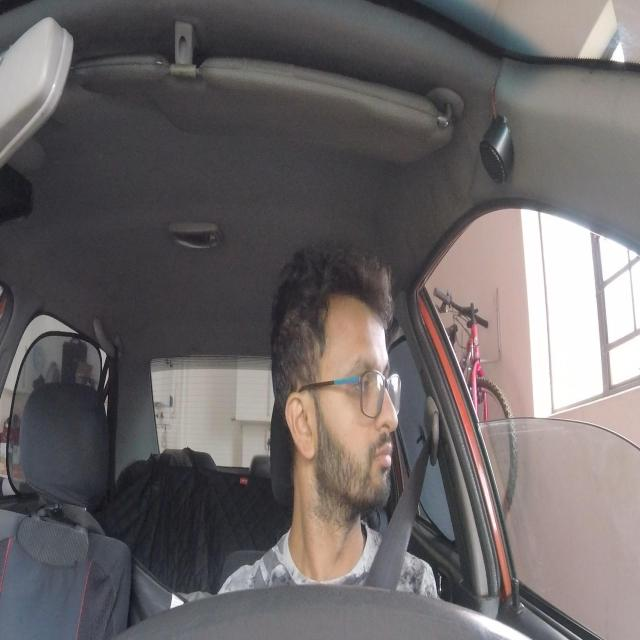open: (347, 351, 382, 415)
